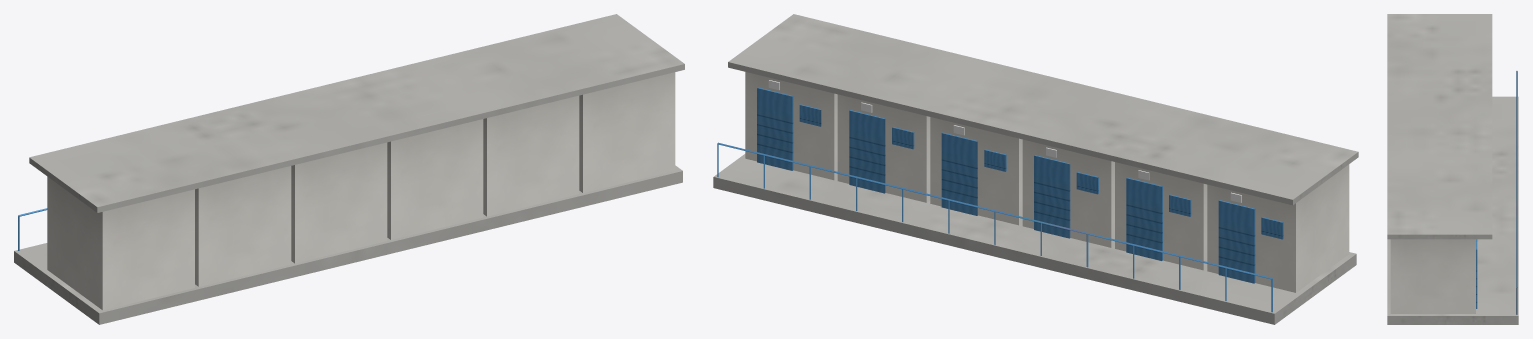
File: beach-cabins-row.glb
The picture shows the model from 3 angles, left to right: view 1: azimuth 30°, elevation 25°; view 2: azimuth 150°, elevation 25°; view 3: azimuth 270°, elevation 25°; orthographic projection. The views are drawn at different scales.
Visible parts, largest first — view 1: beach_cabins_row; view 2: beach_cabins_row; view 3: beach_cabins_row.
Part boxes in pixels (bbox=[...]): beach_cabins_row: bbox=[14, 14, 684, 324]; beach_cabins_row: bbox=[713, 14, 1358, 324]; beach_cabins_row: bbox=[1387, 14, 1518, 324].
Bounding box in the file's own units: 15.9 × 3.06 × 4.
1 material, 1 textured.
